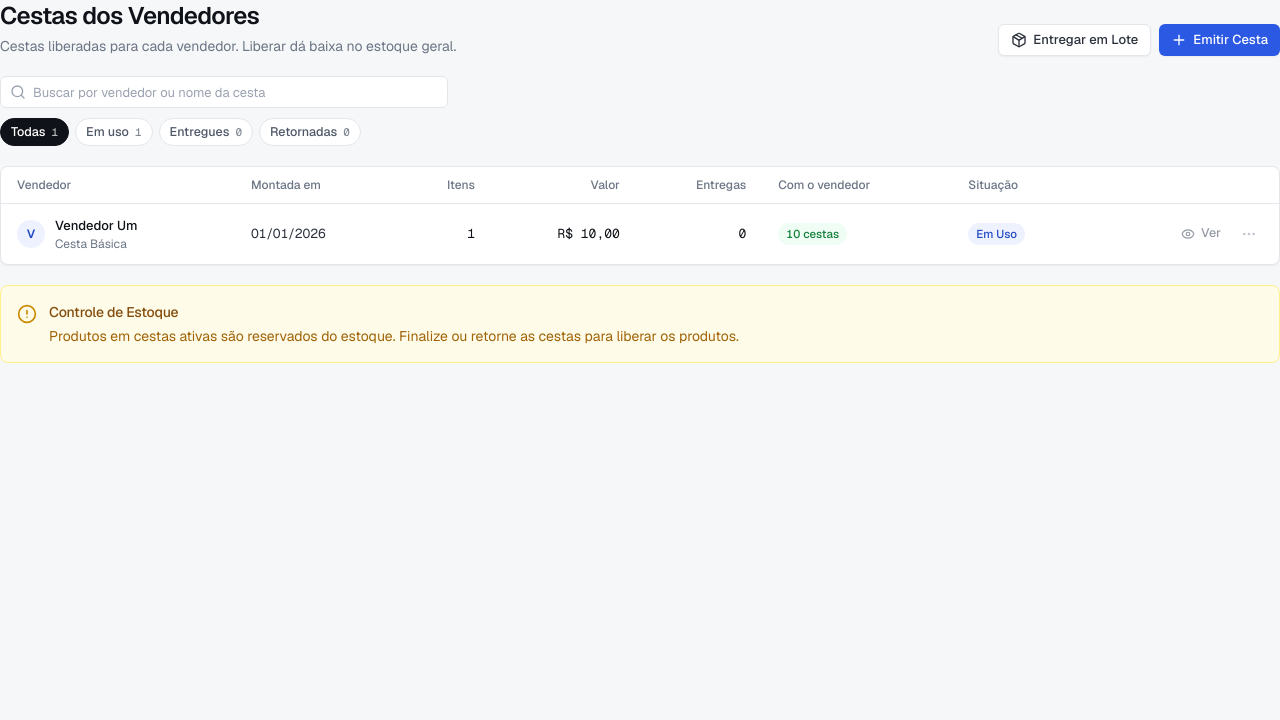
it: CestasVendedor — entrega em lote sem autoridade na UI › 9. sucesso mantém toast de entrega registrada
This screenshot has width=1280, height=720.
Click the button "Entregar em Lote" at (1075, 40), box [998,24,1151,56]
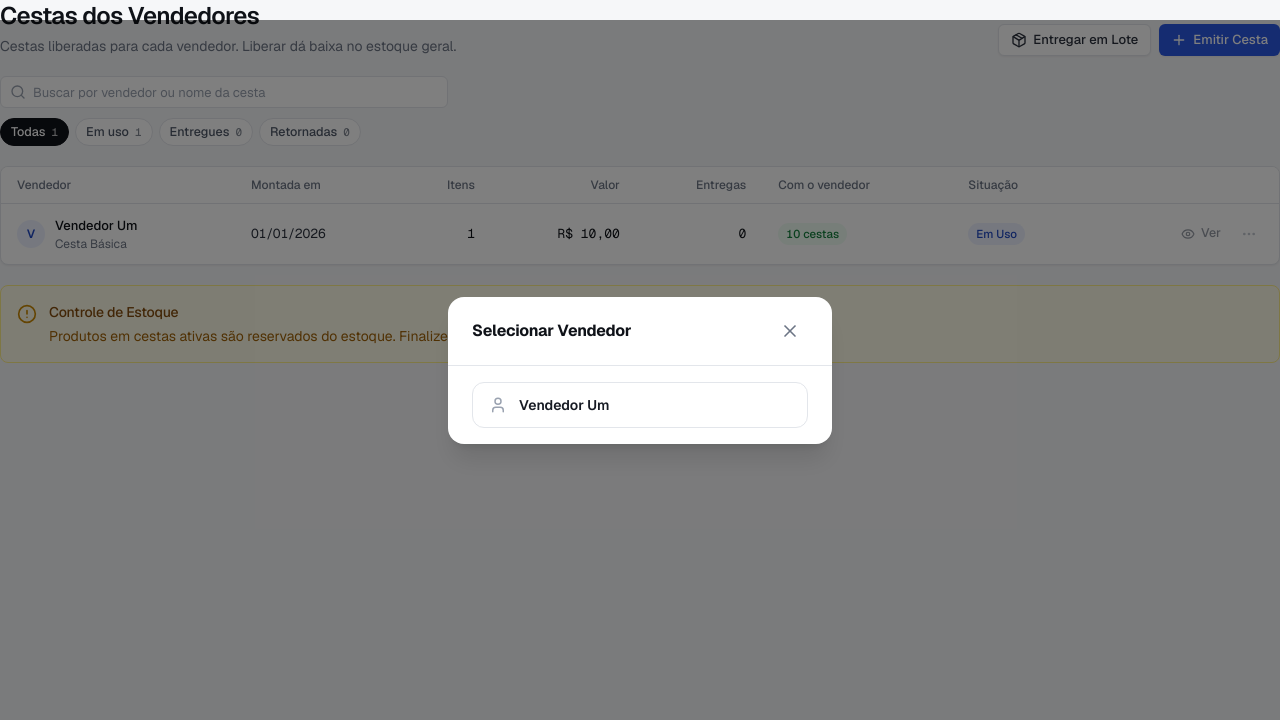
Click the button "Vendedor Um" at (564, 404), box [472,382,808,428]
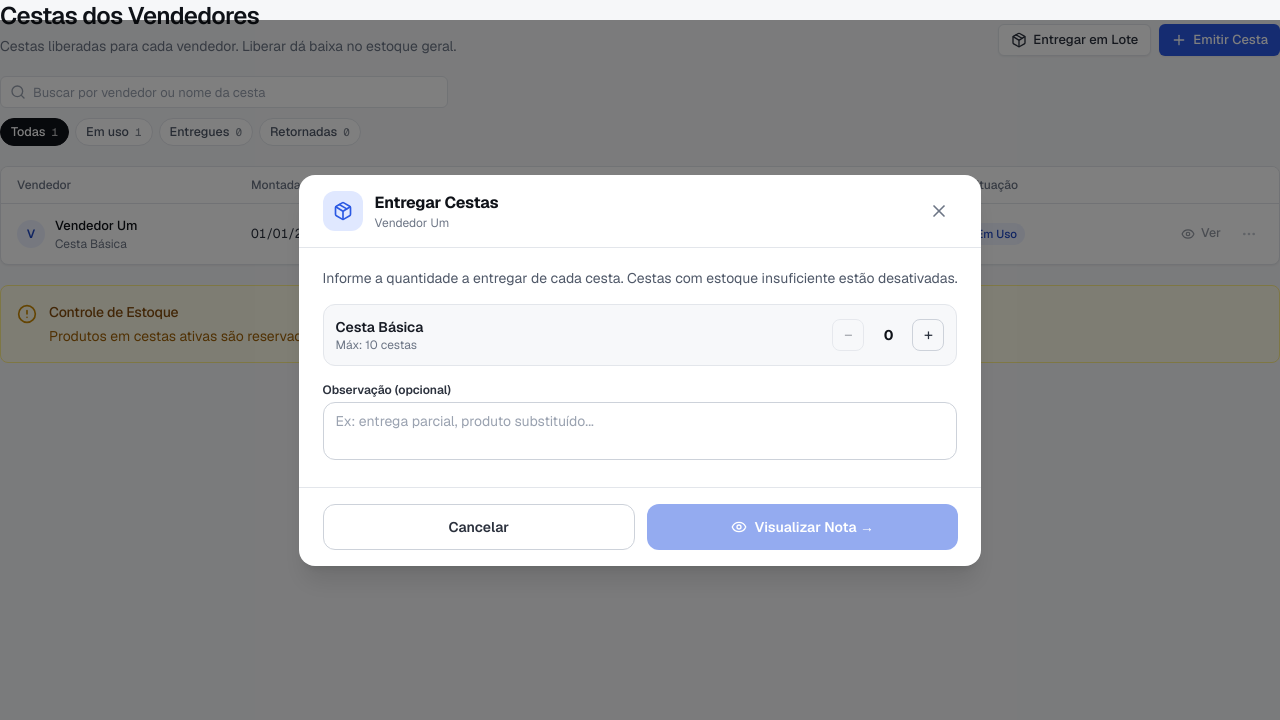
Expected: the heading "Entregar Cestas" is shown, [374,190,498,214]
Click the button "+" at (928, 334), box [912,318,944,350]
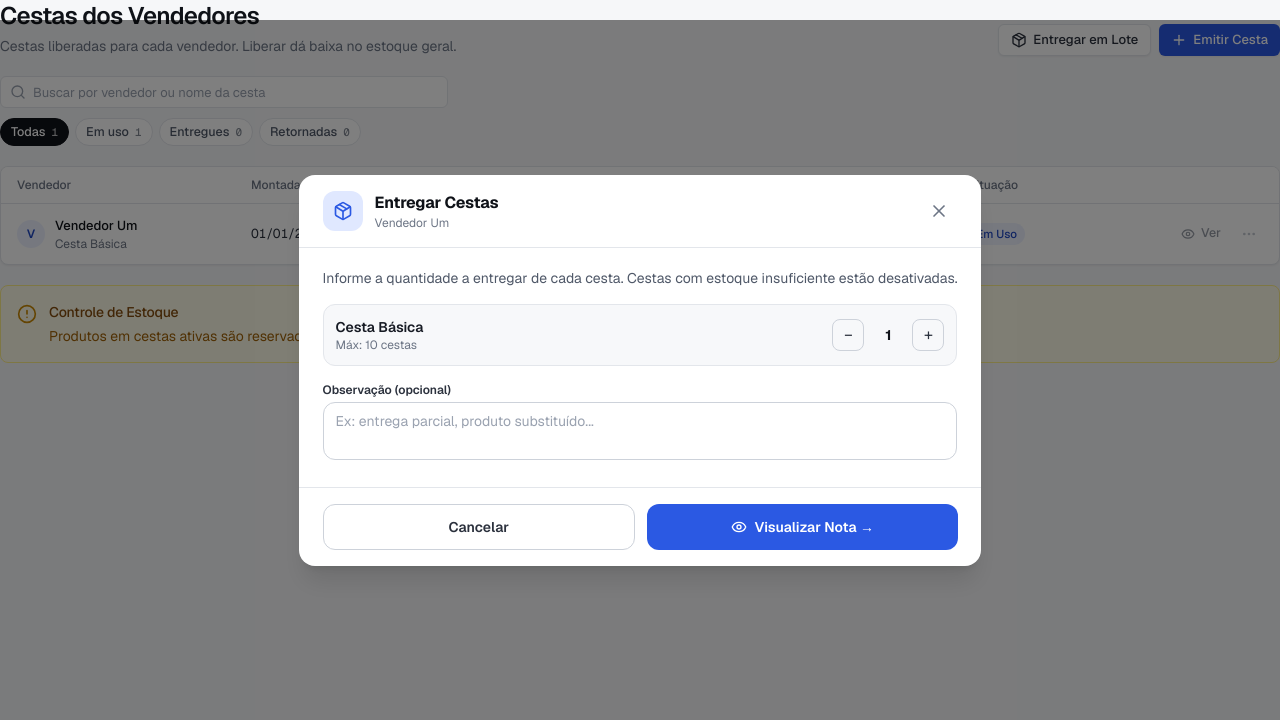
Click the button "Visualizar Nota →" at (802, 526), box [647,504,958,550]
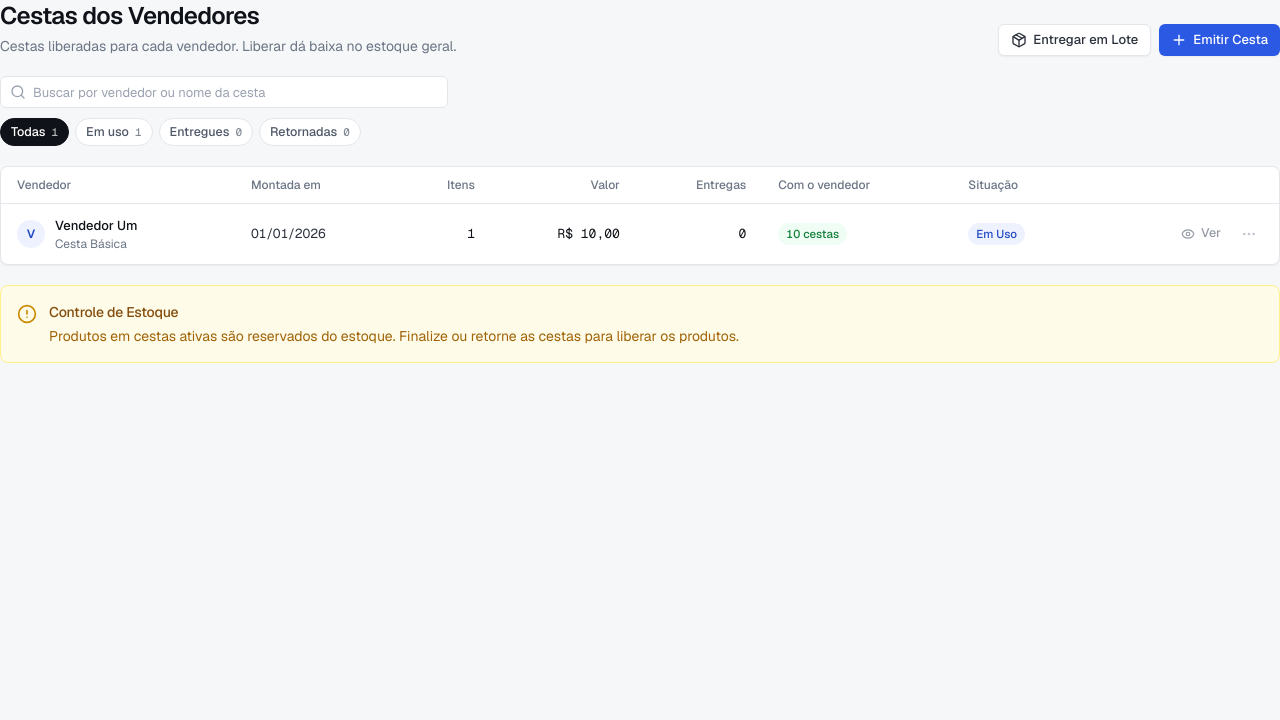
Expected: the heading "Entregar Cestas" is gone
